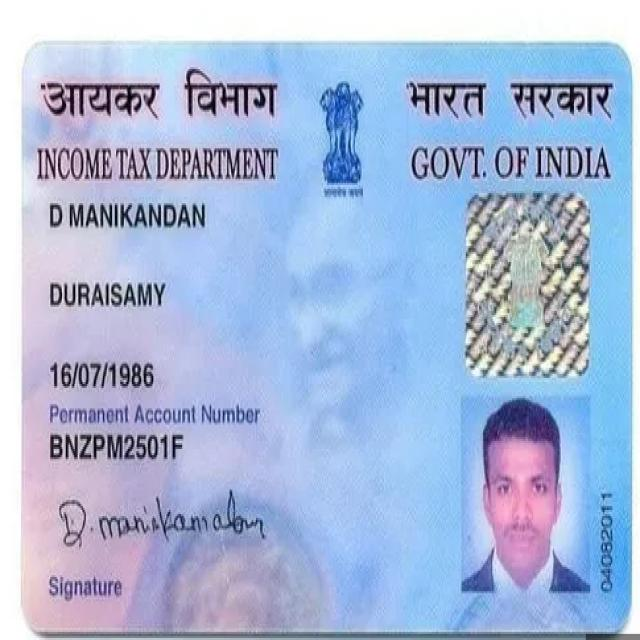pan_card: (20, 38, 624, 629)
